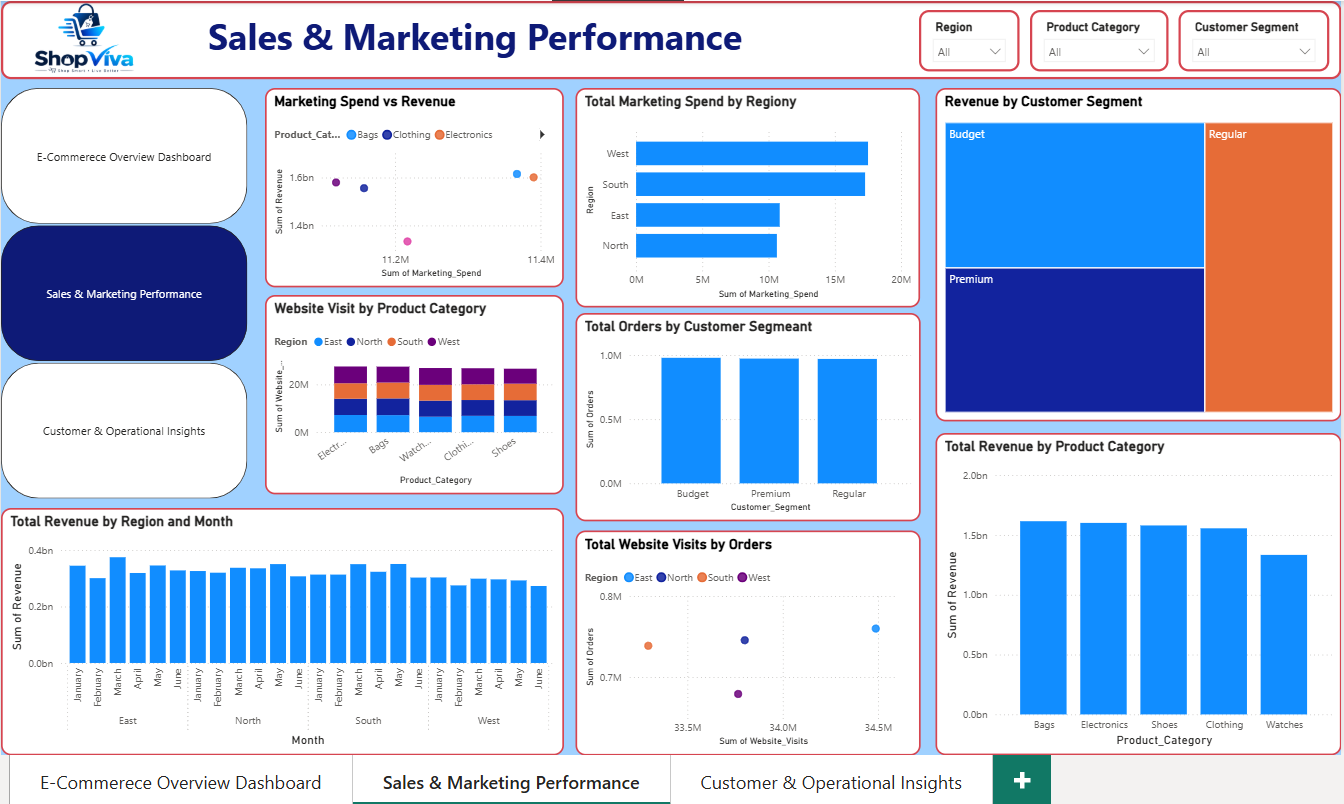

Layout of this report page (visuals, bound fields, positions):
{"tool":"powerbi","page":{"name":"Sales & Marketing Performance","canvas":[1600,900],"ordinal":1},"visuals":[{"type":"textbox","box":[0,0,1600,93.3],"z":0},{"type":"scatterChart","title":"Total Website Visits by Orders","fields":{"X":["Sum(Sheet.Website_Visits)"],"Y":["Sum(Sheet.Orders)"],"Series":["Sheet.Region"]},"box":[685,631.7,411.7,268.3],"z":1000},{"type":"barChart","title":"Total Marketing Spend by Regiony","fields":{"Y":["Sum(Sheet.Marketing_Spend)"],"Category":["Sheet.Region"]},"box":[684.9,103.8,411.3,262.3],"z":2000},{"type":"scatterChart","title":"Marketing Spend vs Revenue","fields":{"X":["Sum(Sheet.Marketing_Spend)"],"Y":["Sum(Sheet.Revenue)"],"Series":["Sheet.Product_Category"]},"box":[315.1,103.8,356.6,237.7],"z":3000},{"type":"slicer","fields":{"Values":["Sheet.Region"]},"box":[1096.7,10,120,73.3],"z":4000},{"type":"slicer","fields":{"Values":["Sheet.Product_Category"]},"box":[1228.3,10,165,73.3],"z":5000},{"type":"slicer","fields":{"Values":["Sheet.Customer_Segment"]},"box":[1405,10,180,73.3],"z":6000},{"type":"clusteredColumnChart","title":"Total Revenue by Product Category","fields":{"Category":["Sheet.Product_Category"],"Y":["Sum(Sheet.Revenue)"]},"box":[1115.1,515.1,484.9,384.9],"z":7000},{"type":"treemap","title":"Revenue by Customer Segment","fields":{"Group":["Sheet.Customer_Segment"],"Values":["Sum(Sheet.Revenue)"]},"box":[1115.1,103.8,484.9,398.1],"z":8000},{"type":"lineClusteredColumnComboChart","title":"Total Revenue by Region and Month","fields":{"Category":["Sheet.Region","Sheet.Order_Date.Variation.Date Hierarchy.Month"],"Y":["Sum(Sheet.Revenue)"]},"box":[0,605,671.7,295],"z":9000},{"type":"clusteredColumnChart","title":"Total Orders by Customer Segmeant","fields":{"Category":["Sheet.Customer_Segment"],"Y":["Sum(Sheet.Orders)"]},"box":[685,371.7,411.7,248.3],"z":10000},{"type":"columnChart","title":"Website Visit by Product Category","fields":{"Category":["Sheet.Product_Category"],"Y":["Sum(Sheet.Website_Visits)"],"Series":["Sheet.Region"]},"box":[315.1,350.9,356.6,237.7],"z":11000},{"type":"image","box":[0,0,198.3,93.3],"z":12000},{"type":"pageNavigator","box":[0,103.8,294.3,490.6],"z":13000}]}

Visuals, with their boxes on the page's 1600x900 design canvas (x1, y1, x2, y2). These are canvas units, not pixel positions in the 1344x804 screenshot, which may show the page scaled, cropped or inside an application window:
textbox: crop(0, 0, 1600, 93)
"Total Website Visits by Orders" scatterChart: crop(685, 632, 1097, 900)
"Total Marketing Spend by Regiony" barChart: crop(685, 104, 1096, 366)
"Marketing Spend vs Revenue" scatterChart: crop(315, 104, 672, 342)
slicer - Sheet.Region: crop(1097, 10, 1217, 83)
slicer - Sheet.Product_Category: crop(1228, 10, 1393, 83)
slicer - Sheet.Customer_Segment: crop(1405, 10, 1585, 83)
"Total Revenue by Product Category" clusteredColumnChart: crop(1115, 515, 1600, 900)
"Revenue by Customer Segment" treemap: crop(1115, 104, 1600, 502)
"Total Revenue by Region and Month" lineClusteredColumnComboChart: crop(0, 605, 672, 900)
"Total Orders by Customer Segmeant" clusteredColumnChart: crop(685, 372, 1097, 620)
"Website Visit by Product Category" columnChart: crop(315, 351, 672, 589)
image: crop(0, 0, 198, 93)
pageNavigator: crop(0, 104, 294, 594)
